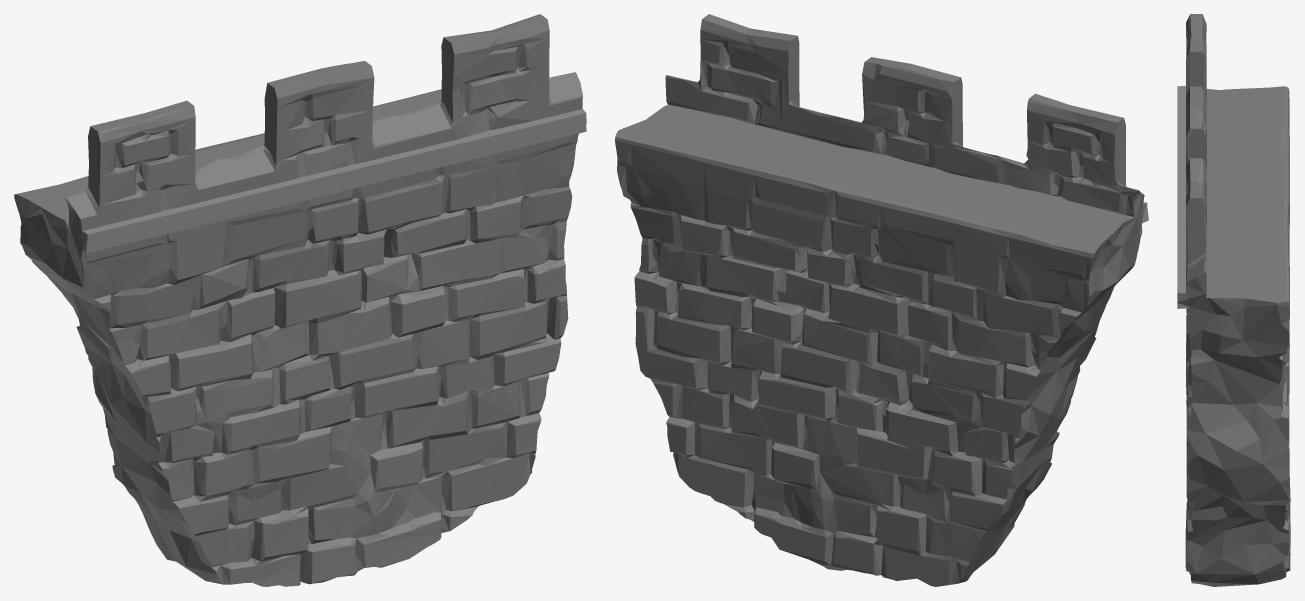
The model's file is castle_battlement_c1_destroyed_part.FBX.
3 renders of one model, left to right at view 1: azimuth 30°, elevation 25°; view 2: azimuth 150°, elevation 25°; view 3: azimuth 270°, elevation 25°, orthographic. The views are drawn at different scales.
Visible parts, largest first — view 1: castle_battlement_c1_destroyed_part; view 2: castle_battlement_c1_destroyed_part; view 3: castle_battlement_c1_destroyed_part.
Boxes of the visible parts, x1,y1,x2,y2 form: castle_battlement_c1_destroyed_part: (14,14,586,586); castle_battlement_c1_destroyed_part: (615,14,1148,586); castle_battlement_c1_destroyed_part: (1177,14,1290,586).
Size of the model in its own units: 9.85 by 9.31 by 2.18.
